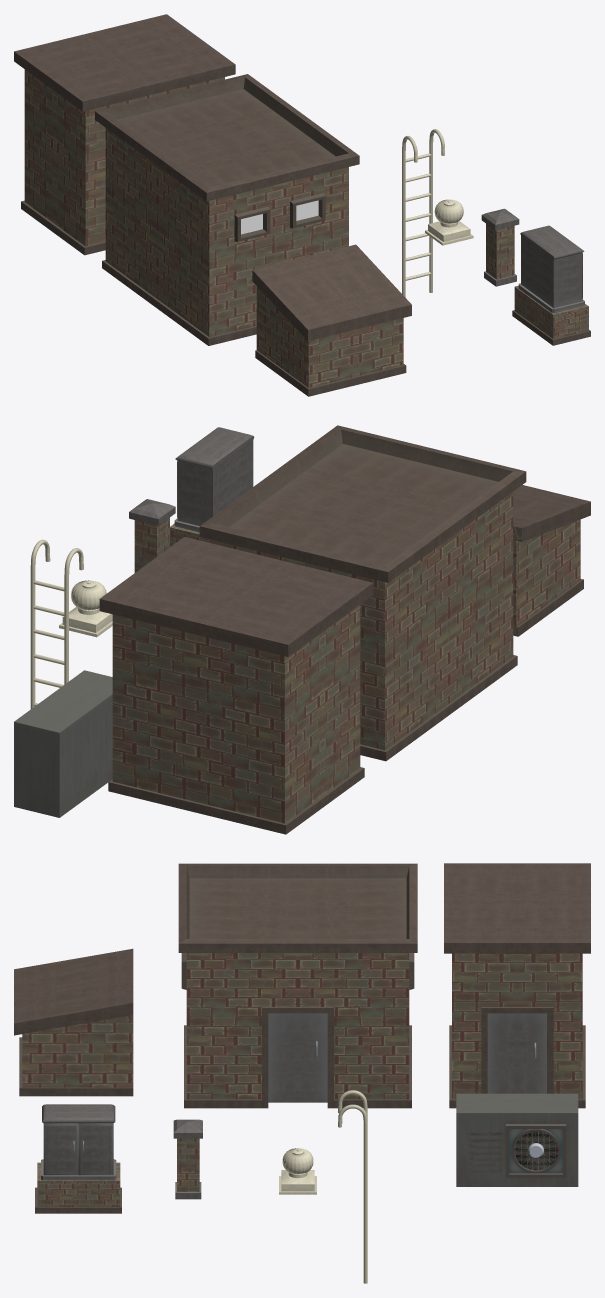
The picture shows the model from 3 angles, top to bottom: view 1: azimuth 30°, elevation 25°; view 2: azimuth 150°, elevation 25°; view 3: azimuth 270°, elevation 25°; orthographic projection. The views are drawn at different scales.
Visible parts, largest first — view 1: Hut1_low, Hut2_low, Hut3_low, pCube21, pCube14, pCylinder39, group2_pCylinder1; view 2: Hut2_low, Hut1_low, pCube23, Hut3_low, pCube21, pCylinder39, pCube14, group2_pCylinder1; view 3: Hut1_low, Hut2_low, Hut3_low, pCube23, pCube21, pCube14, group2_pCylinder1, pCylinder39.
Boxes of the visible parts, x1=… form: Hut1_low: x1=95, y1=74, x2=359, y2=345; Hut2_low: x1=14, y1=14, x2=235, y2=255; Hut3_low: x1=252, y1=244, x2=411, y2=396; pCube21: x1=512, y1=225, x2=590, y2=345; pCube14: x1=481, y1=208, x2=519, y2=286; pCylinder39: x1=402, y1=129, x2=444, y2=297; group2_pCylinder1: x1=425, y1=199, x2=473, y2=245; Hut2_low: x1=99, y1=537, x2=373, y2=834; Hut1_low: x1=199, y1=425, x2=526, y2=761; pCube23: x1=14, y1=670, x2=112, y2=817; Hut3_low: x1=513, y1=485, x2=590, y2=636; pCube21: x1=170, y1=427, x2=254, y2=546; pCylinder39: x1=30, y1=539, x2=83, y2=708; pCube14: x1=129, y1=499, x2=175, y2=572; group2_pCylinder1: x1=59, y1=580, x2=112, y2=637; Hut1_low: x1=178, y1=863, x2=417, y2=1108; Hut2_low: x1=444, y1=863, x2=590, y2=1108; Hut3_low: x1=14, y1=948, x2=133, y2=1096; pCube23: x1=456, y1=1093, x2=578, y2=1186; pCube21: x1=35, y1=1104, x2=121, y2=1213; pCube14: x1=173, y1=1119, x2=202, y2=1199; group2_pCylinder1: x1=279, y1=1148, x2=316, y2=1194; pCylinder39: x1=338, y1=1090, x2=367, y2=1283.
Bounding box in the file's own units: 0.0716 × 0.0518 × 0.1052.
Materials: 8 (8 with a texture image).
